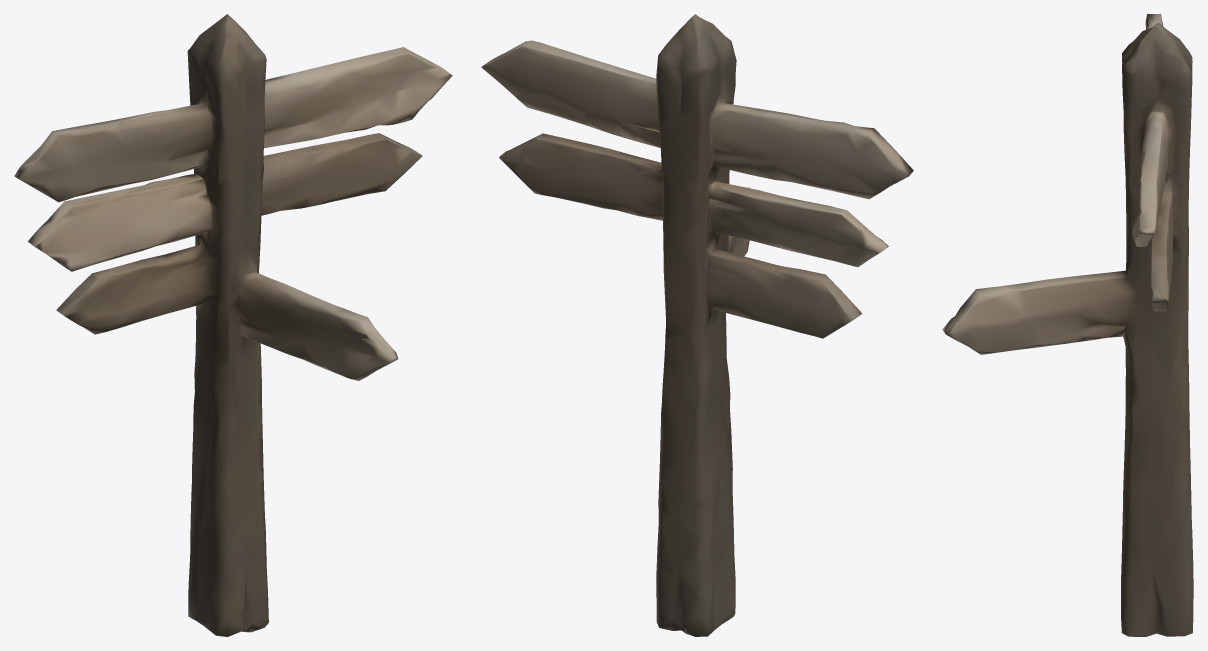
File: signpost.glb
3 renders of one model, left to right at view 1: azimuth 30°, elevation 25°; view 2: azimuth 150°, elevation 25°; view 3: azimuth 270°, elevation 25°, orthographic.
Visible parts, largest first — view 1: tripo_node_be70923e-7ad1-4b86-a276-4aca032c2798; view 2: tripo_node_be70923e-7ad1-4b86-a276-4aca032c2798; view 3: tripo_node_be70923e-7ad1-4b86-a276-4aca032c2798.
Boxes of the visible parts, bbox=[...] form: tripo_node_be70923e-7ad1-4b86-a276-4aca032c2798: bbox=[14, 14, 452, 636]; tripo_node_be70923e-7ad1-4b86-a276-4aca032c2798: bbox=[481, 14, 913, 636]; tripo_node_be70923e-7ad1-4b86-a276-4aca032c2798: bbox=[942, 14, 1193, 636].
Bounding box in the file's own units: 0.7407 × 1 × 0.3778.
1 material, 1 textured.
